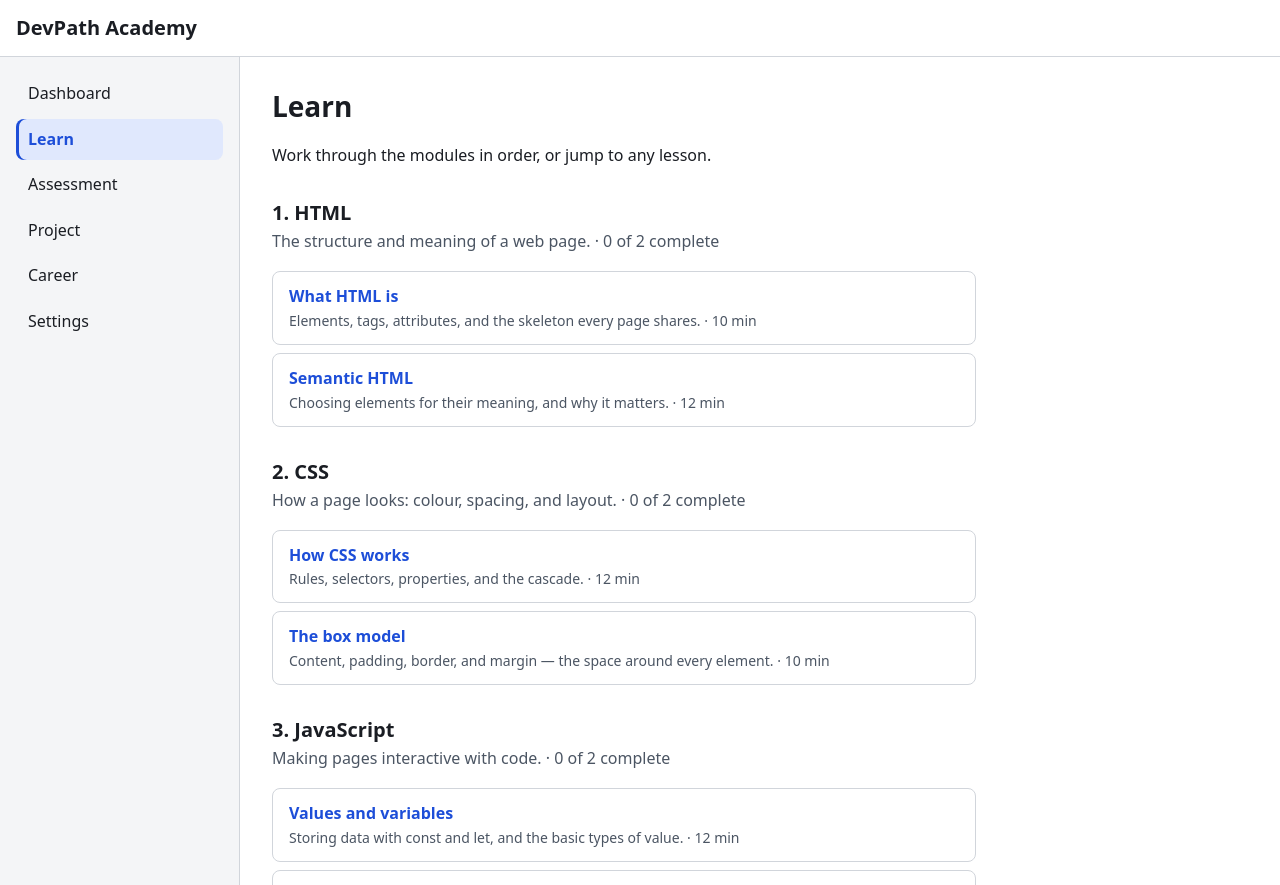
Test: course map (/learn) › opens a lesson when its link is clicked
The image size is (1280, 885).
Step 1. Click the link "The box model" → (624, 648), box [272,612,976,686]
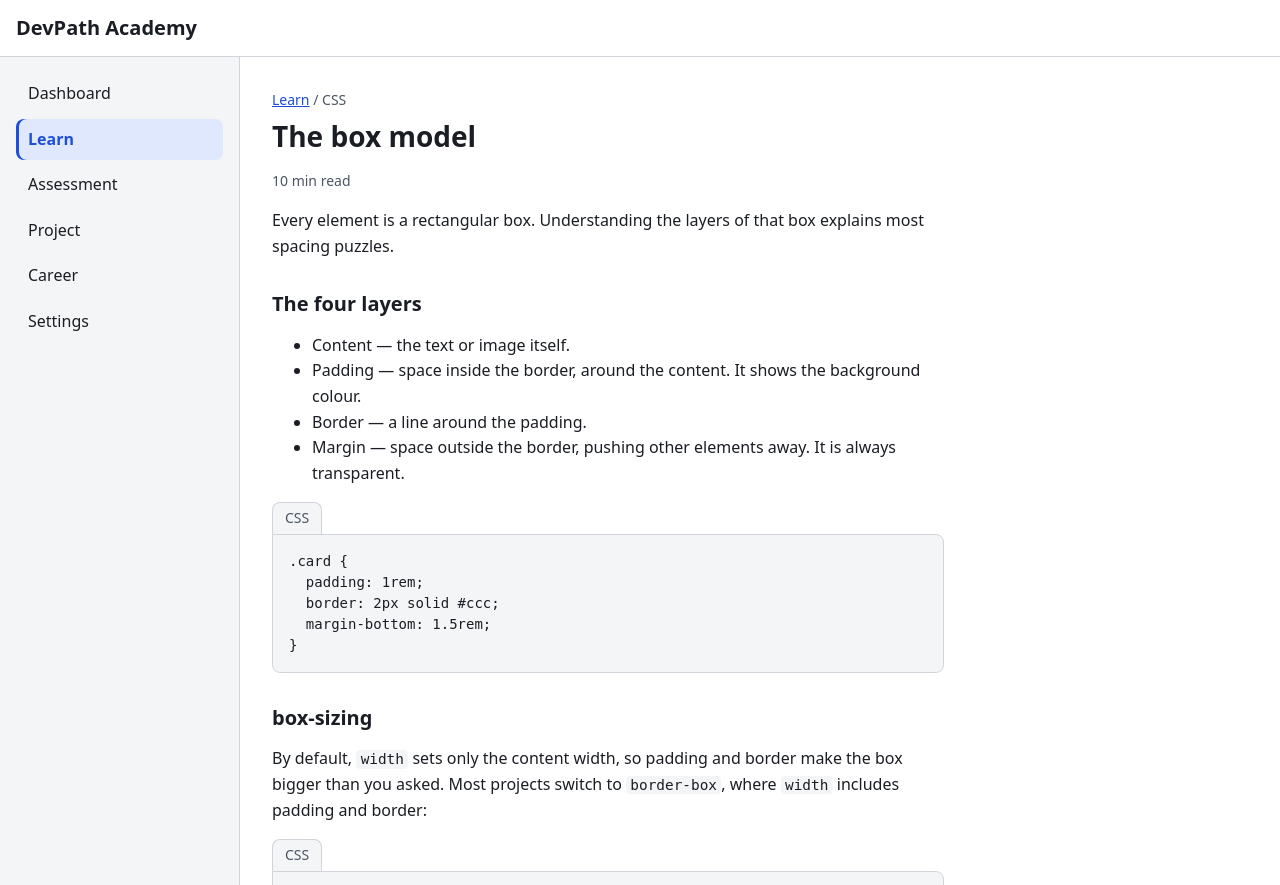
Result: the heading "The box model" is shown at [272,117,476,155]
